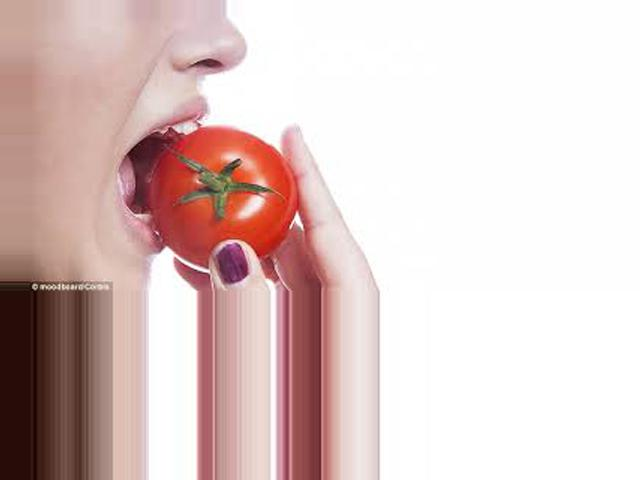tomato: (150, 126, 299, 273)
